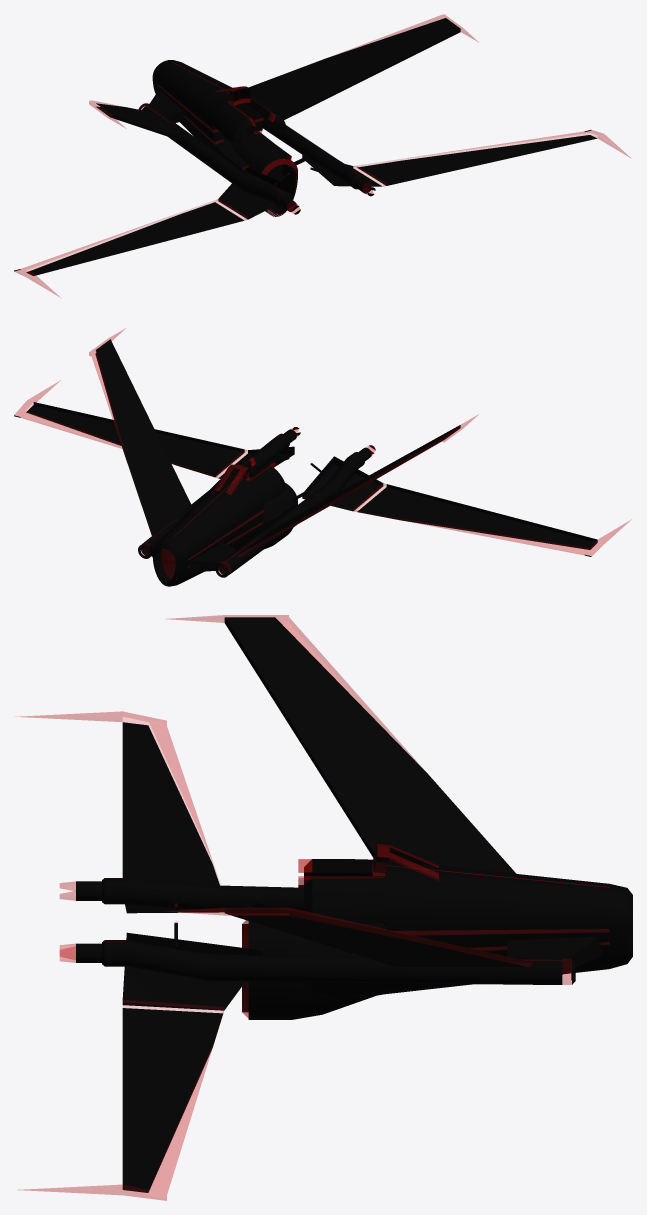
File: jetLike.obj
3 views of the same model, one above another, from view 1: azimuth 30°, elevation 25°; view 2: azimuth 150°, elevation 25°; view 3: azimuth 270°, elevation 25° (orthographic). The views are drawn at different scales.
Parts seen in each view (by area): view 1: Cylinder.004_Cylinder.001_Cylinder.004_Cylinder.001_black, Cylinder.004_Cylinder.001_Cylinder.004_Cylinder.001_tron; view 2: Cylinder.004_Cylinder.001_Cylinder.004_Cylinder.001_black, Cylinder.004_Cylinder.001_Cylinder.004_Cylinder.001_tron; view 3: Cylinder.004_Cylinder.001_Cylinder.004_Cylinder.001_black, Cylinder.004_Cylinder.001_Cylinder.004_Cylinder.001_tron.
Part boxes in pixels (bbox=[...]): Cylinder.004_Cylinder.001_Cylinder.004_Cylinder.001_black: bbox=[14, 18, 597, 275]; Cylinder.004_Cylinder.001_Cylinder.004_Cylinder.001_tron: bbox=[14, 14, 630, 297]; Cylinder.004_Cylinder.001_Cylinder.004_Cylinder.001_black: bbox=[14, 339, 597, 586]; Cylinder.004_Cylinder.001_Cylinder.004_Cylinder.001_tron: bbox=[14, 328, 631, 578]; Cylinder.004_Cylinder.001_Cylinder.004_Cylinder.001_black: bbox=[76, 617, 632, 1192]; Cylinder.004_Cylinder.001_Cylinder.004_Cylinder.001_tron: bbox=[20, 615, 609, 1200].
Size of the model in its own units: 3.1 by 0.7714 by 1.7.
